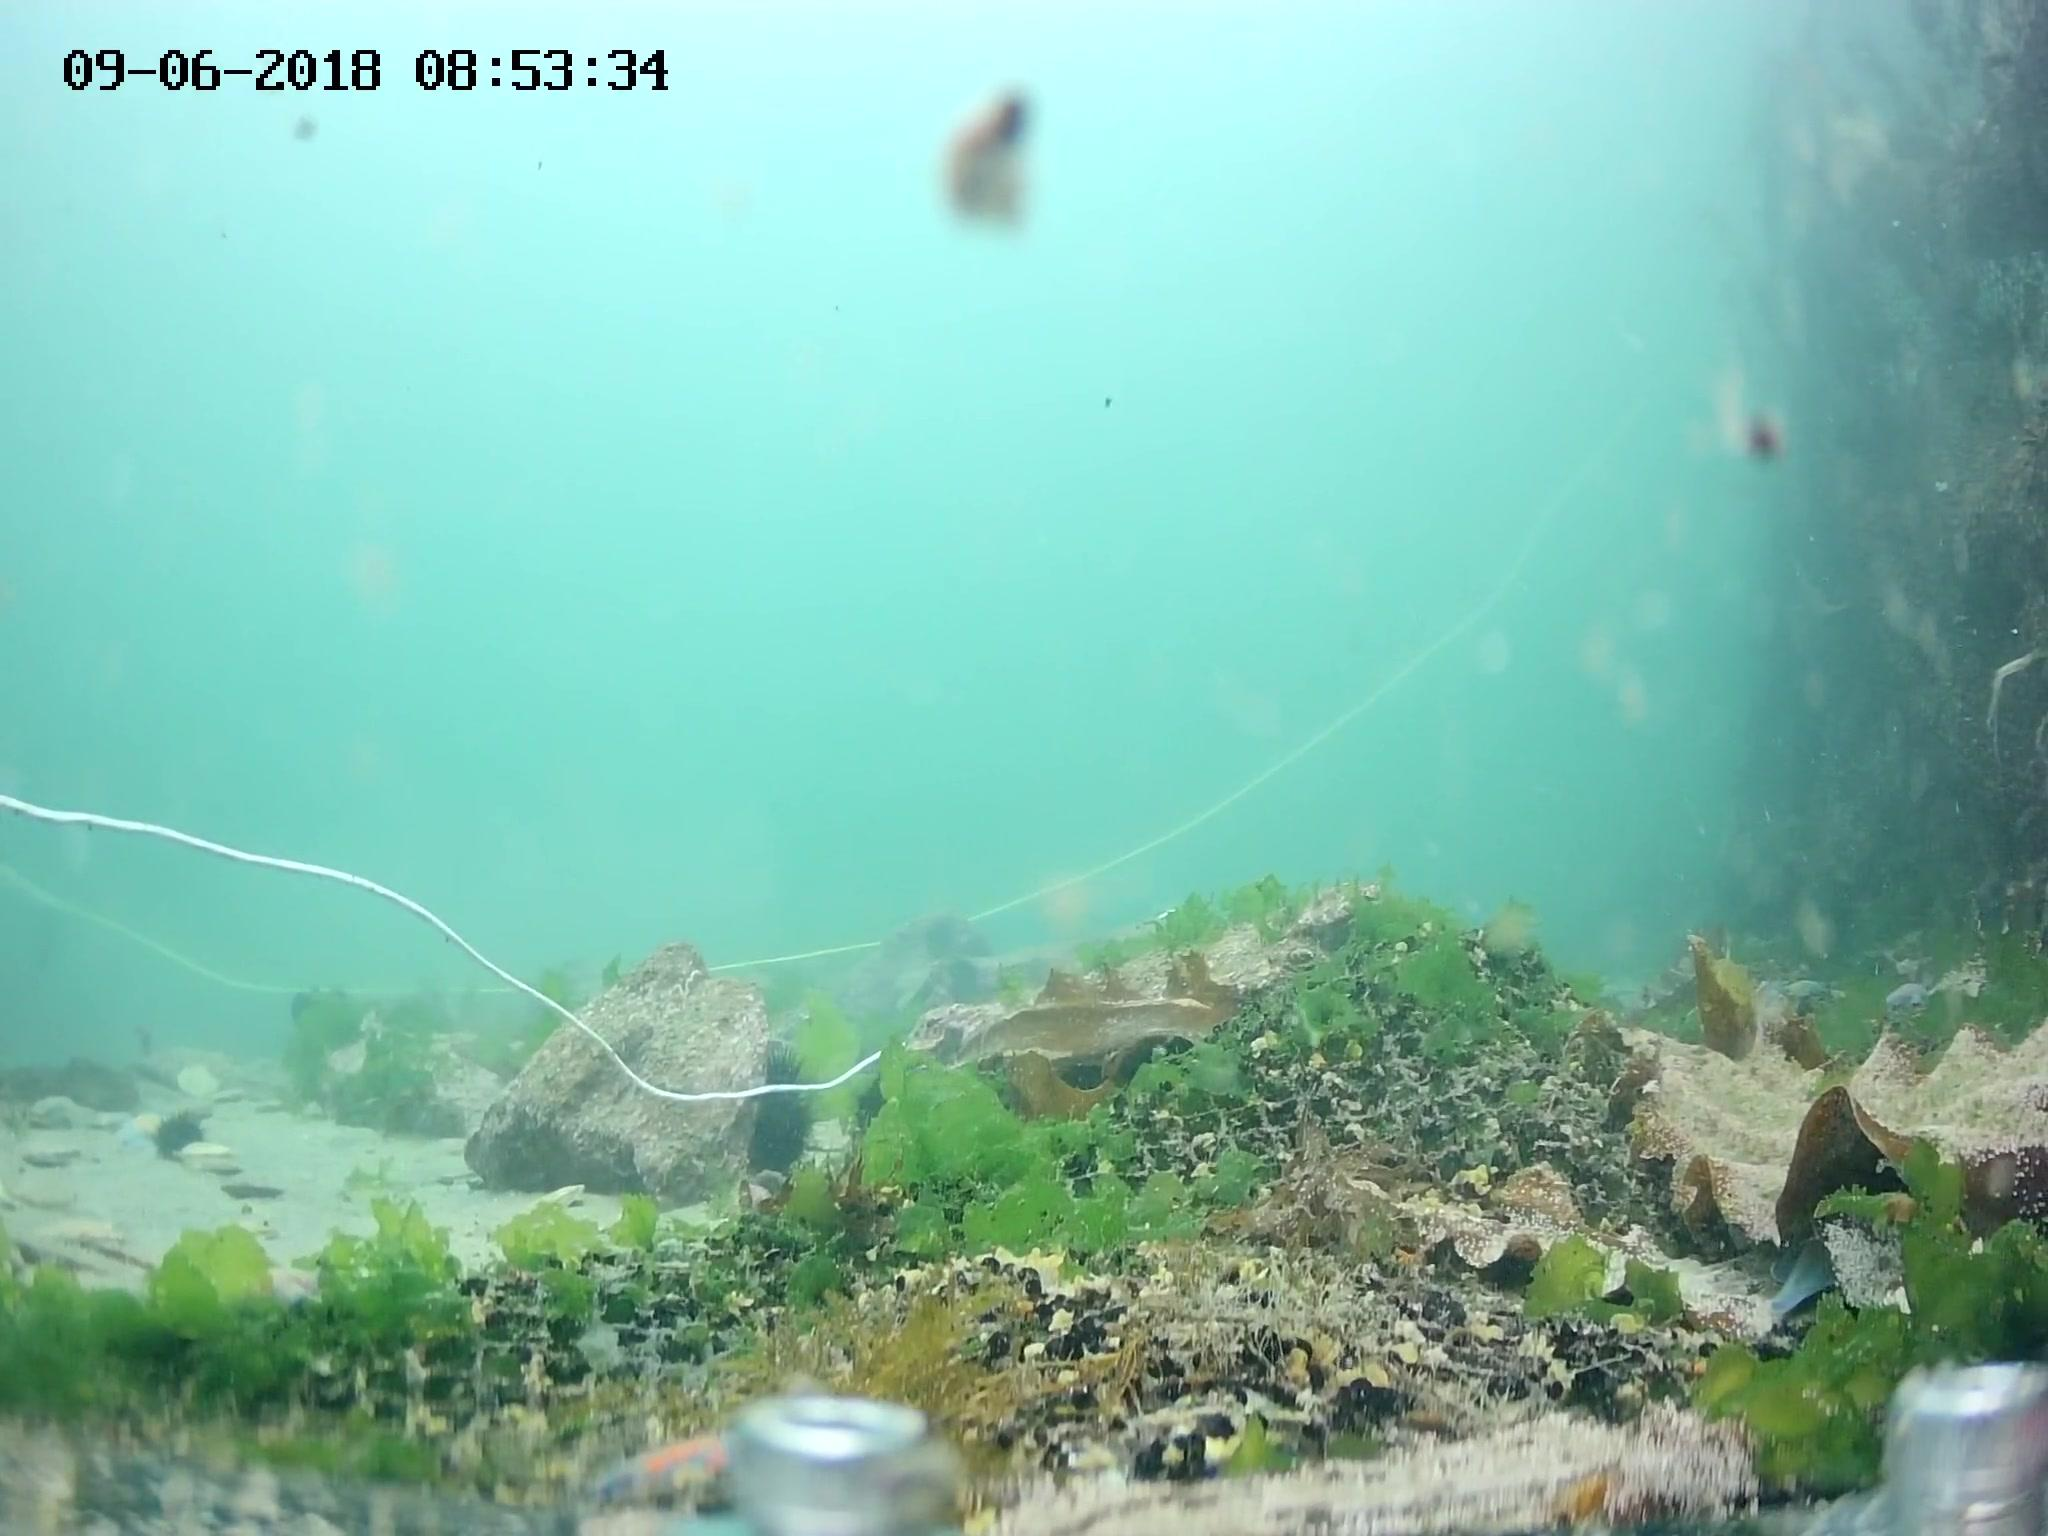echinus: (731, 1058, 808, 1175), (160, 1117, 206, 1160)
scallop: (169, 1142, 239, 1183), (527, 1178, 587, 1223), (216, 1175, 281, 1210), (166, 1063, 216, 1105), (26, 1141, 94, 1170), (19, 1187, 82, 1213)
starfish: (590, 1433, 755, 1518), (221, 1252, 331, 1328), (26, 1091, 98, 1137), (50, 1217, 134, 1257), (105, 1105, 169, 1147)
